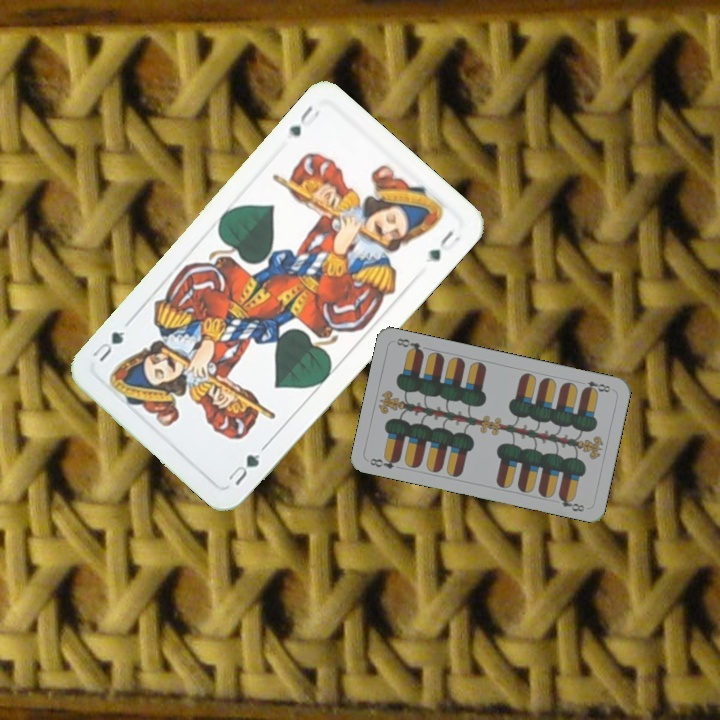E8: (366, 452, 402, 471), (579, 377, 613, 396)
GU: (224, 441, 269, 489), (284, 101, 322, 139)
